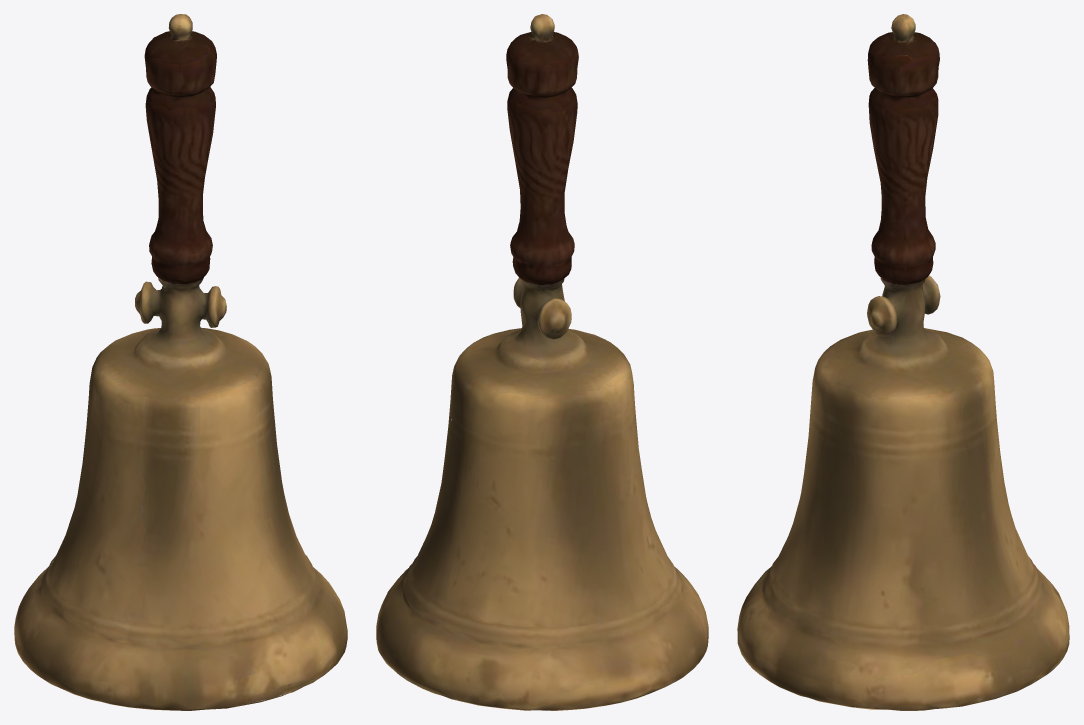
File: campana.glb
3 views of the same model, side by side, from view 1: azimuth 30°, elevation 25°; view 2: azimuth 150°, elevation 25°; view 3: azimuth 270°, elevation 25° (orthographic).
Parts seen in each view (by area): view 1: geometry_0; view 2: geometry_0; view 3: geometry_0.
Part boxes in pixels (<box>): geometry_0: <box>14,14,347,710</box>; geometry_0: <box>376,14,708,710</box>; geometry_0: <box>737,14,1069,710</box>.
Size of the model in its own units: 0.12 by 0.25 by 0.12.
1 material, 1 textured.
